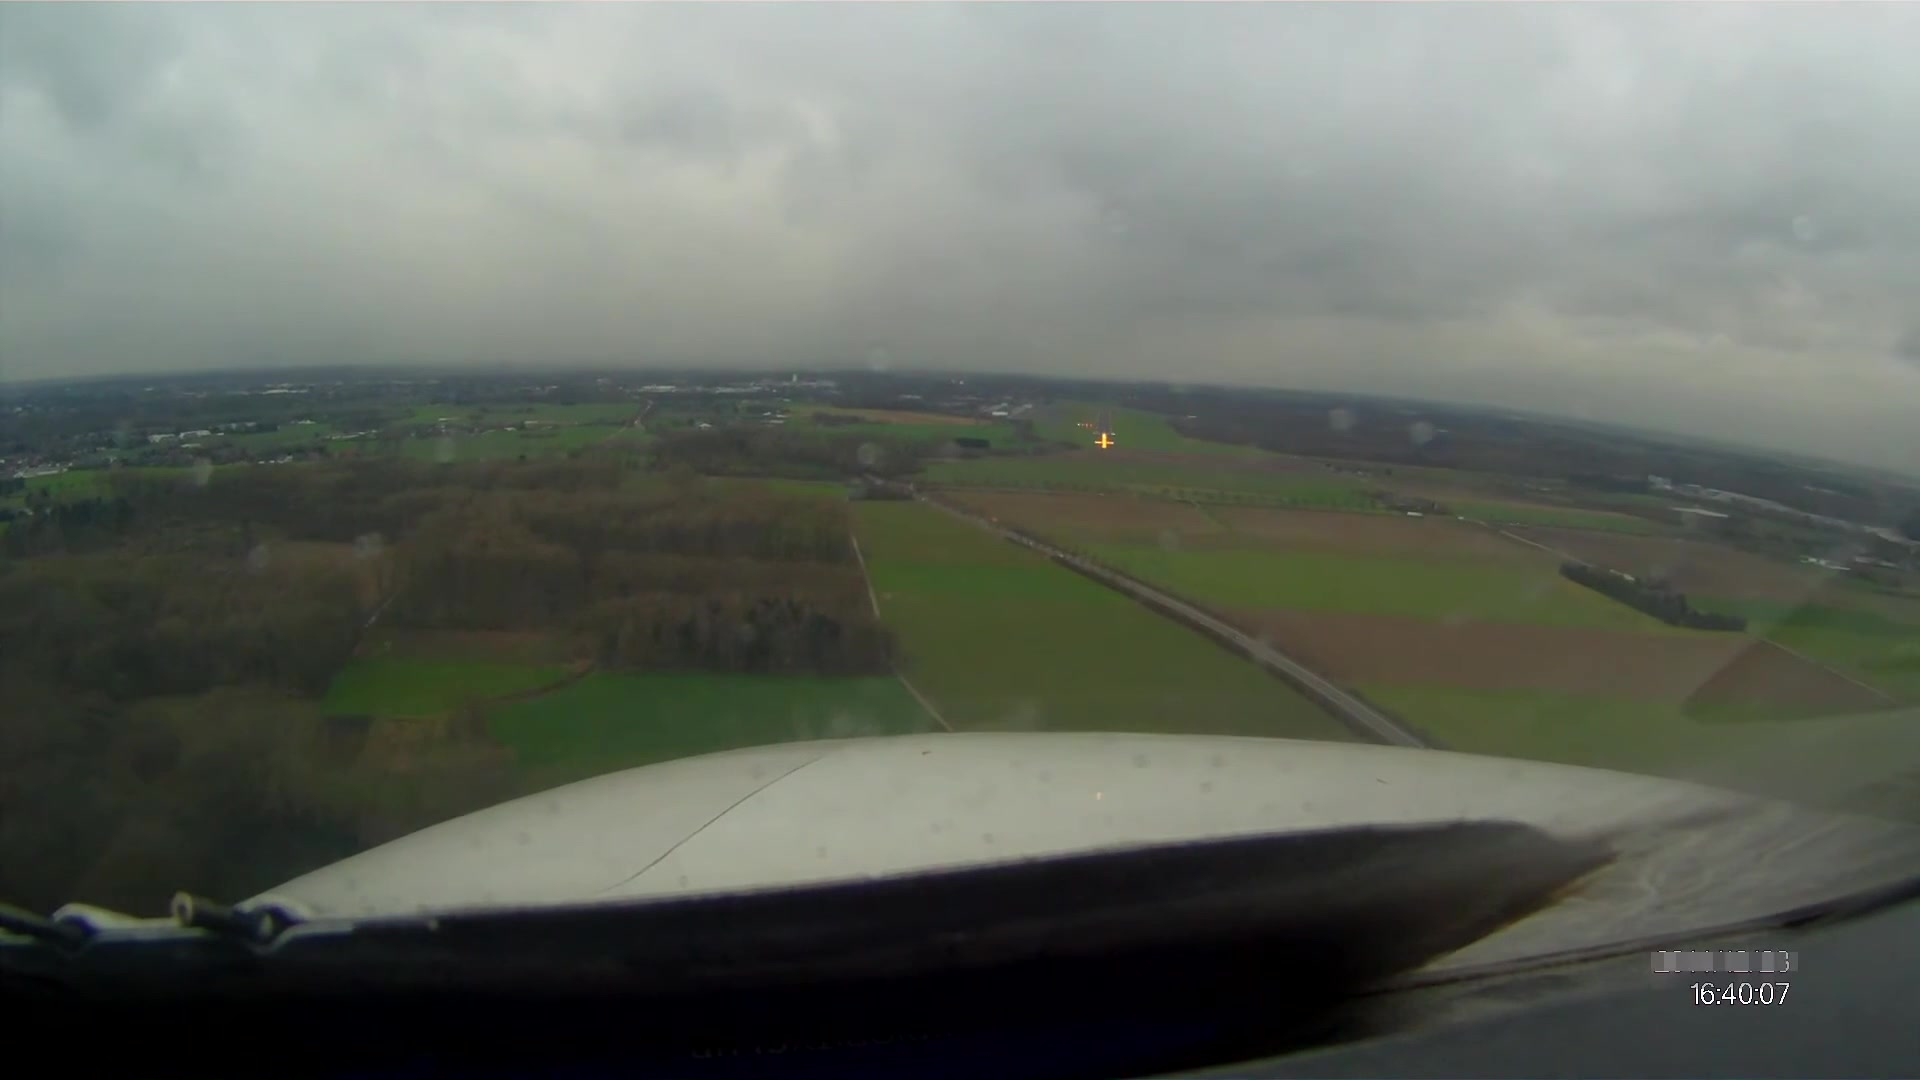runway: (1093, 406, 1116, 436)
